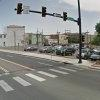Crosswalk: (4, 62, 84, 90)
